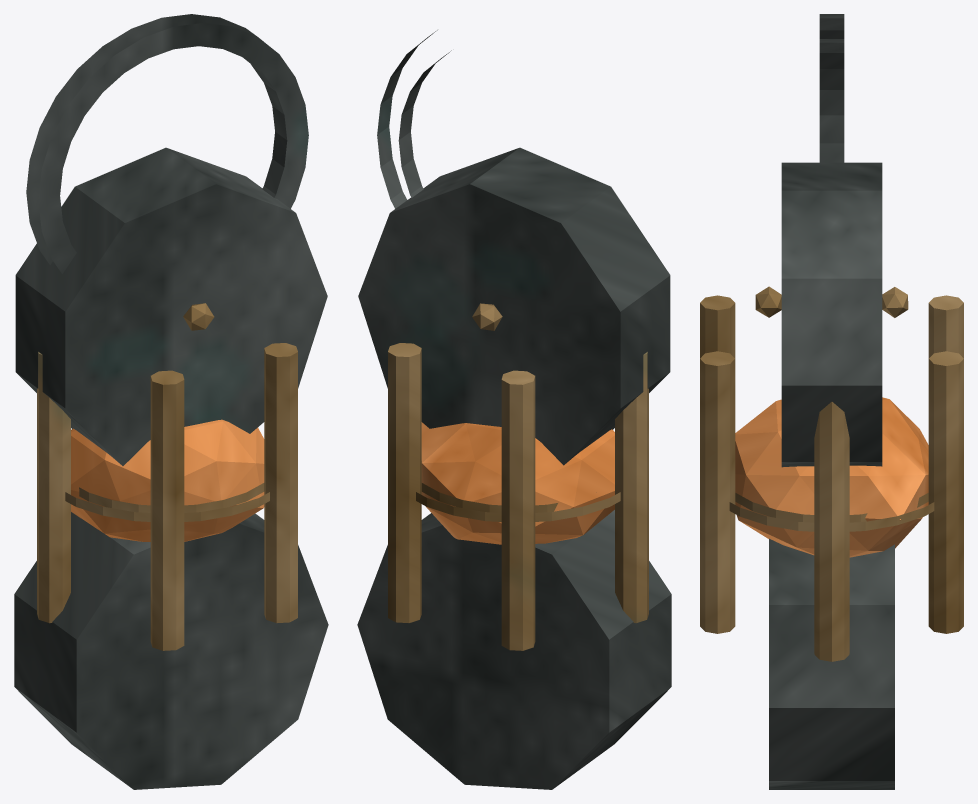
The model's file is 0909_lantern_09.glb.
3 views of the same model, side by side, from view 1: azimuth 30°, elevation 25°; view 2: azimuth 150°, elevation 25°; view 3: azimuth 270°, elevation 25° (orthographic).
Parts seen in each view (by area): view 1: iron, brass, amber; view 2: iron, brass, amber; view 3: iron, brass, amber.
Boxes of the visible parts, x1,y1,x2,y2 form: iron: (14, 14, 328, 789); brass: (37, 303, 297, 650); amber: (71, 419, 264, 541); iron: (357, 30, 671, 789); brass: (388, 303, 648, 650); amber: (421, 422, 614, 544); iron: (769, 14, 894, 789); brass: (700, 286, 963, 661); amber: (735, 397, 928, 557).
Bounding box in the file's own units: 0.5 × 1.32 × 0.4197.
Materials: 3 (3 with a texture image).
